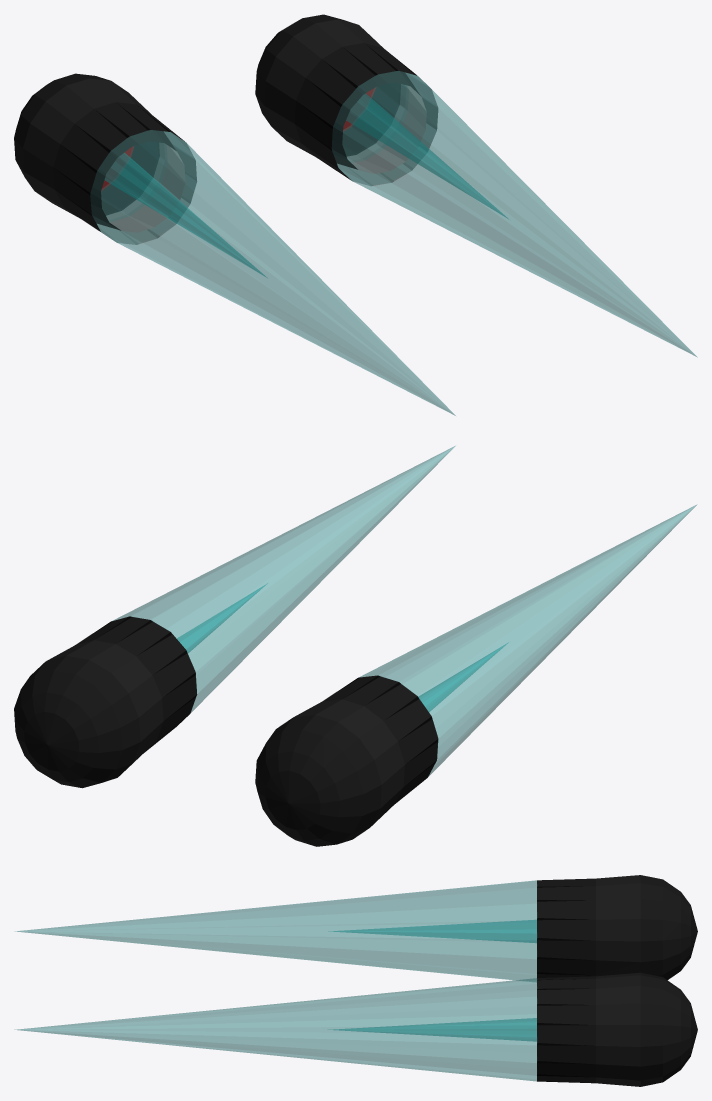
File: Bunnerr_Su30MKING.obj
3 views of the same model, one above another, from view 1: azimuth 30°, elevation 25°; view 2: azimuth 150°, elevation 25°; view 3: azimuth 270°, elevation 25° (orthographic). The views are drawn at different scales.
Parts seen in each view (by area): view 1: ShapeIndexedFaceSet.158_ShapeIndexedFaceSet.159, ShapeIndexedFaceSet.160_ShapeIndexedFaceSet.161, ShapeIndexedFaceSet.154_ShapeIndexedFaceSet.155, ShapeIndexedFaceSet.145_ShapeIndexedFaceSet.146, ShapeIndexedFaceSet.155_ShapeIndexedFaceSet.156, ShapeIndexedFaceSet.139_ShapeIndexedFaceSet.140, ShapeIndexedFaceSet.157_ShapeIndexedFaceSet.158, ShapeIndexedFaceSet.159_ShapeIndexedFaceSet.160, ShapeIndexedFaceSet.144_ShapeIndexedFaceSet.145, ShapeIndexedFaceSet.150_ShapeIndexedFaceSet.151, ShapeIndexedFaceSet.137_ShapeIndexedFaceSet.138, ShapeIndexedFaceSet.147_ShapeIndexedFaceSet.148 (+4 smaller); view 2: ShapeIndexedFaceSet.158_ShapeIndexedFaceSet.159, ShapeIndexedFaceSet.160_ShapeIndexedFaceSet.161, ShapeIndexedFaceSet.145_ShapeIndexedFaceSet.146, ShapeIndexedFaceSet.150_ShapeIndexedFaceSet.151, ShapeIndexedFaceSet.155_ShapeIndexedFaceSet.156, ShapeIndexedFaceSet.139_ShapeIndexedFaceSet.140, ShapeIndexedFaceSet.154_ShapeIndexedFaceSet.155, ShapeIndexedFaceSet.157_ShapeIndexedFaceSet.158, ShapeIndexedFaceSet.159_ShapeIndexedFaceSet.160, ShapeIndexedFaceSet.149_ShapeIndexedFaceSet.150, ShapeIndexedFaceSet.144_ShapeIndexedFaceSet.145; view 3: ShapeIndexedFaceSet.160_ShapeIndexedFaceSet.161, ShapeIndexedFaceSet.158_ShapeIndexedFaceSet.159, ShapeIndexedFaceSet.145_ShapeIndexedFaceSet.146, ShapeIndexedFaceSet.155_ShapeIndexedFaceSet.156, ShapeIndexedFaceSet.150_ShapeIndexedFaceSet.151, ShapeIndexedFaceSet.154_ShapeIndexedFaceSet.155, ShapeIndexedFaceSet.139_ShapeIndexedFaceSet.140, ShapeIndexedFaceSet.159_ShapeIndexedFaceSet.160, ShapeIndexedFaceSet.157_ShapeIndexedFaceSet.158, ShapeIndexedFaceSet.149_ShapeIndexedFaceSet.150, ShapeIndexedFaceSet.144_ShapeIndexedFaceSet.145, ShapeIndexedFaceSet.152_ShapeIndexedFaceSet.153 (+1 smaller).
Boxes of the visible parts, x1=… form: ShapeIndexedFaceSet.158_ShapeIndexedFaceSet.159: x1=90, y1=130, x2=455, y2=415; ShapeIndexedFaceSet.160_ShapeIndexedFaceSet.161: x1=332, y1=71, x2=697, y2=357; ShapeIndexedFaceSet.154_ShapeIndexedFaceSet.155: x1=264, y1=19, x2=400, y2=156; ShapeIndexedFaceSet.145_ShapeIndexedFaceSet.146: x1=14, y1=73, x2=182, y2=231; ShapeIndexedFaceSet.155_ShapeIndexedFaceSet.156: x1=294, y1=43, x2=414, y2=180; ShapeIndexedFaceSet.139_ShapeIndexedFaceSet.140: x1=22, y1=78, x2=150, y2=217; ShapeIndexedFaceSet.157_ShapeIndexedFaceSet.158: x1=105, y1=153, x2=266, y2=277; ShapeIndexedFaceSet.159_ShapeIndexedFaceSet.160: x1=346, y1=93, x2=507, y2=218; ShapeIndexedFaceSet.144_ShapeIndexedFaceSet.145: x1=23, y1=79, x2=159, y2=215; ShapeIndexedFaceSet.150_ShapeIndexedFaceSet.151: x1=255, y1=14, x2=420, y2=169; ShapeIndexedFaceSet.137_ShapeIndexedFaceSet.138: x1=109, y1=143, x2=185, y2=232; ShapeIndexedFaceSet.147_ShapeIndexedFaceSet.148: x1=350, y1=85, x2=426, y2=173; ShapeIndexedFaceSet.158_ShapeIndexedFaceSet.159: x1=359, y1=505, x2=696, y2=776; ShapeIndexedFaceSet.160_ShapeIndexedFaceSet.161: x1=113, y1=446, x2=455, y2=712; ShapeIndexedFaceSet.145_ShapeIndexedFaceSet.146: x1=255, y1=675, x2=438, y2=846; ShapeIndexedFaceSet.150_ShapeIndexedFaceSet.151: x1=14, y1=656, x2=140, y2=788; ShapeIndexedFaceSet.155_ShapeIndexedFaceSet.156: x1=16, y1=616, x2=197, y2=753; ShapeIndexedFaceSet.139_ShapeIndexedFaceSet.140: x1=294, y1=699, x2=404, y2=826; ShapeIndexedFaceSet.154_ShapeIndexedFaceSet.155: x1=46, y1=640, x2=163, y2=762; ShapeIndexedFaceSet.157_ShapeIndexedFaceSet.158: x1=419, y1=642, x2=508, y2=711; ShapeIndexedFaceSet.159_ShapeIndexedFaceSet.160: x1=177, y1=583, x2=267, y2=652; ShapeIndexedFaceSet.149_ShapeIndexedFaceSet.150: x1=54, y1=641, x2=162, y2=758; ShapeIndexedFaceSet.144_ShapeIndexedFaceSet.145: x1=300, y1=700, x2=403, y2=822; ShapeIndexedFaceSet.160_ShapeIndexedFaceSet.161: x1=14, y1=978, x2=536, y2=1081; ShapeIndexedFaceSet.158_ShapeIndexedFaceSet.159: x1=15, y1=880, x2=536, y2=982; ShapeIndexedFaceSet.145_ShapeIndexedFaceSet.146: x1=537, y1=875, x2=697, y2=980; ShapeIndexedFaceSet.155_ShapeIndexedFaceSet.156: x1=537, y1=976, x2=680, y2=1083; ShapeIndexedFaceSet.150_ShapeIndexedFaceSet.151: x1=640, y1=973, x2=697, y2=1086; ShapeIndexedFaceSet.154_ShapeIndexedFaceSet.155: x1=596, y1=972, x2=640, y2=1086; ShapeIndexedFaceSet.139_ShapeIndexedFaceSet.140: x1=596, y1=875, x2=640, y2=976; ShapeIndexedFaceSet.159_ShapeIndexedFaceSet.160: x1=333, y1=1018, x2=536, y2=1041; ShapeIndexedFaceSet.157_ShapeIndexedFaceSet.158: x1=332, y1=920, x2=536, y2=942; ShapeIndexedFaceSet.149_ShapeIndexedFaceSet.150: x1=596, y1=973, x2=640, y2=1065; ShapeIndexedFaceSet.144_ShapeIndexedFaceSet.145: x1=596, y1=875, x2=640, y2=941; ShapeIndexedFaceSet.152_ShapeIndexedFaceSet.153: x1=537, y1=978, x2=593, y2=1083.
Bounding box in the file's own units: 38.69 × 12.69 × 76.4.
